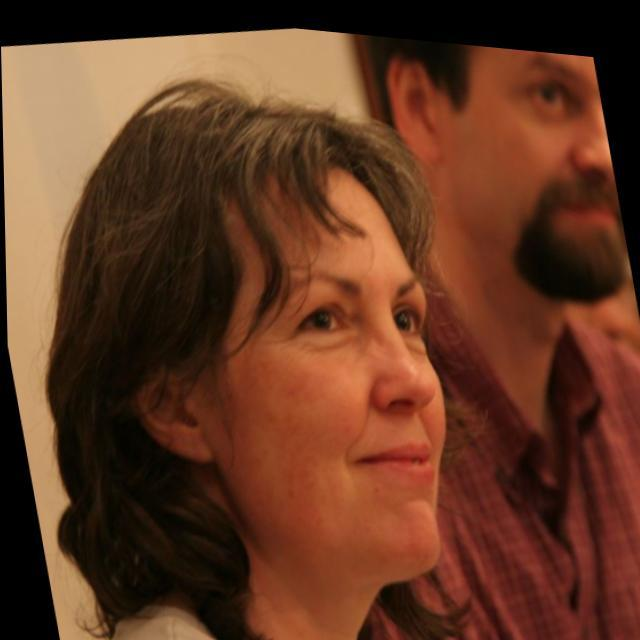Nonhelmet: (43, 75, 461, 637)
